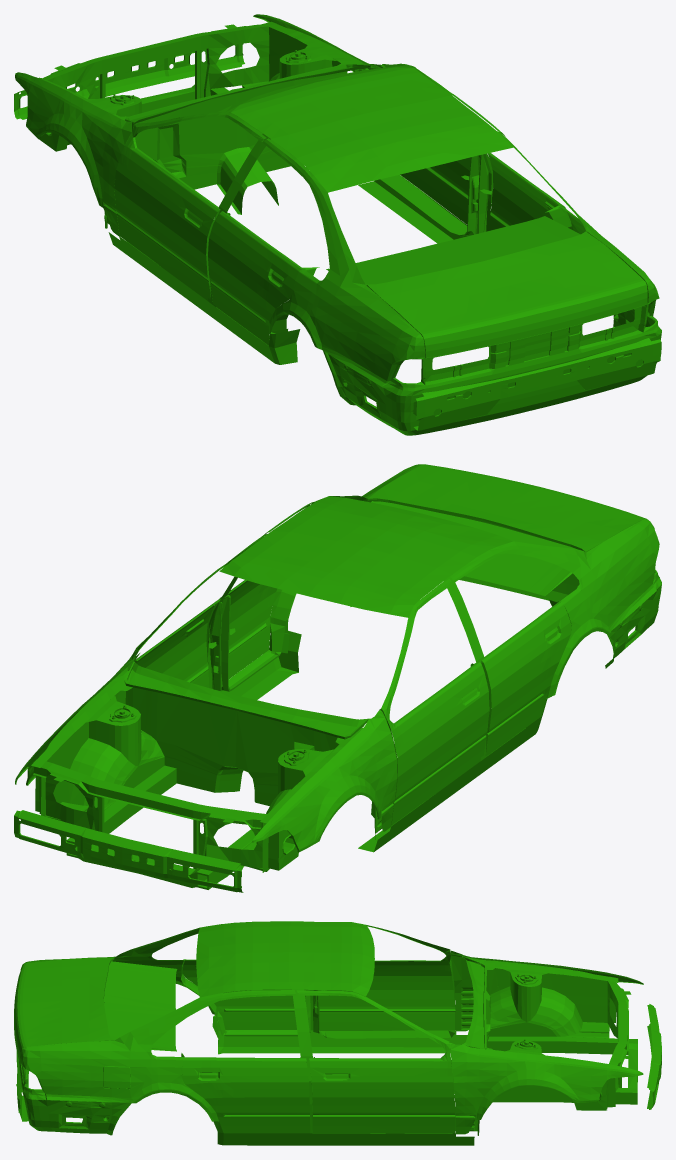
3 views of the same model, one above another, from view 1: azimuth 30°, elevation 25°; view 2: azimuth 150°, elevation 25°; view 3: azimuth 270°, elevation 25° (orthographic). The views are drawn at different scales.
Visible parts, largest first — view 1: Mesh.015_Mesh.014_door__lr_ok_g8m2.001; view 2: Mesh.015_Mesh.014_door__lr_ok_g8m2.001; view 3: Mesh.015_Mesh.014_door__lr_ok_g8m2.001.
Boxes of the visible parts, x1,y1,x2,y2 form: Mesh.015_Mesh.014_door__lr_ok_g8m2.001: [14, 14, 661, 435]; Mesh.015_Mesh.014_door__lr_ok_g8m2.001: [14, 464, 661, 892]; Mesh.015_Mesh.014_door__lr_ok_g8m2.001: [14, 921, 661, 1145].
Size of the model in its own units: 1.96 by 1.2 by 4.86.
